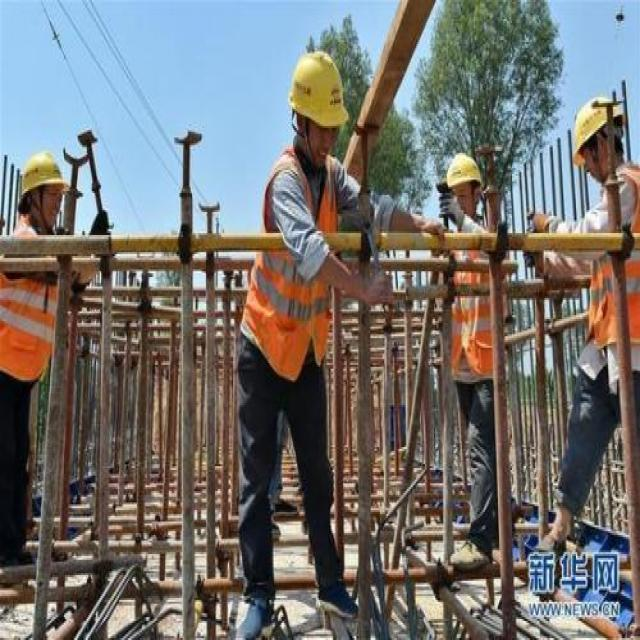hat: (288, 44, 350, 168), (567, 91, 625, 188), (16, 143, 70, 231), (443, 151, 484, 214)
